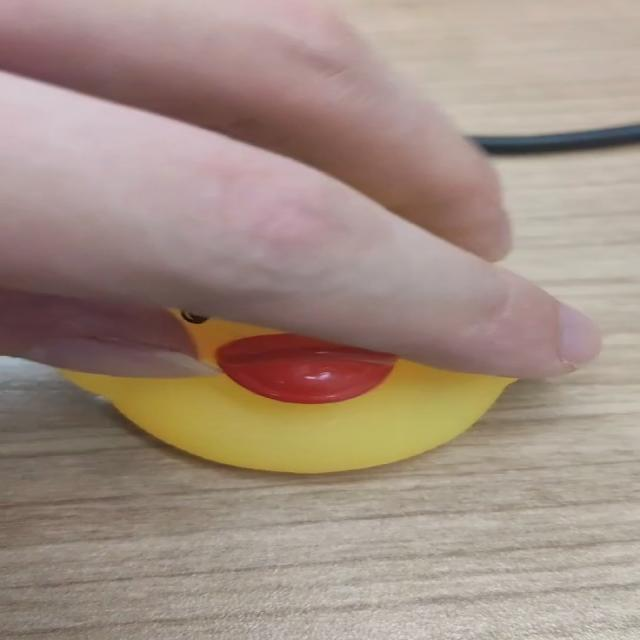rubber-duck: (63, 310, 512, 471)
